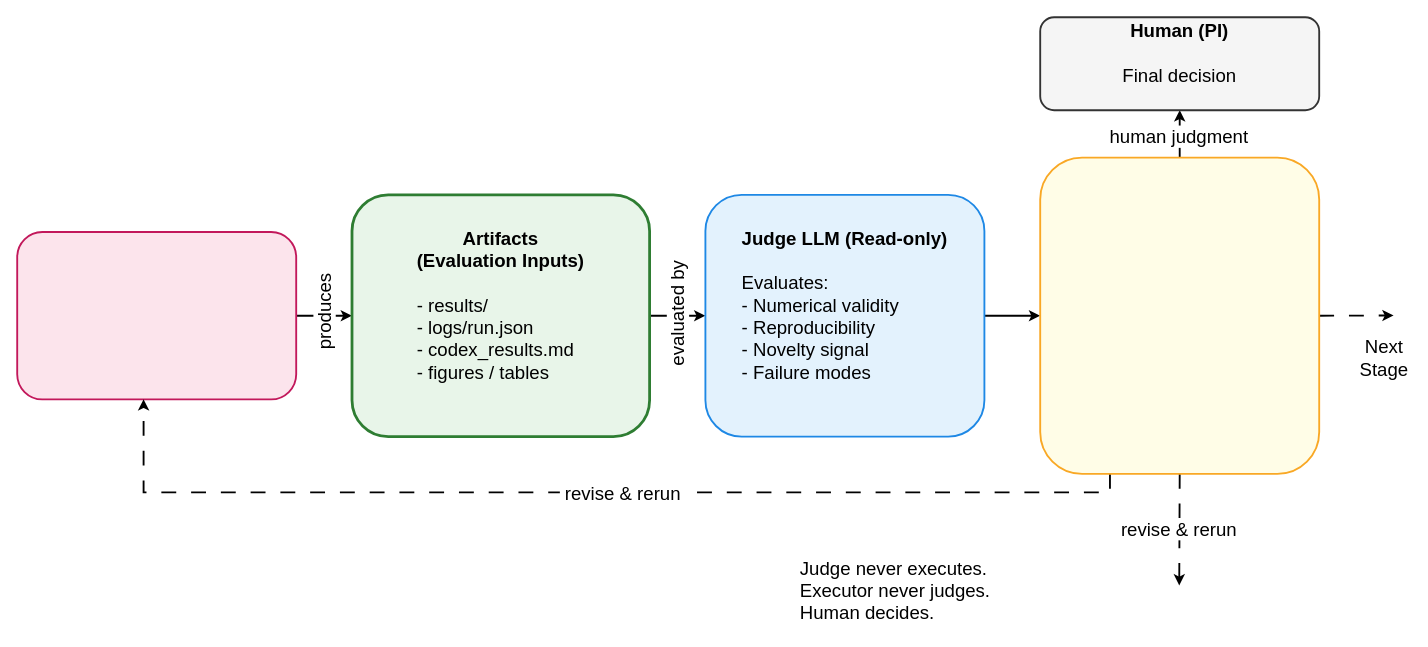
Some shapes in this 1428 by 647 pixel diagram are drawn without their labels. The shapes that lost their labels are listed below. From the top down, each one's box as (x1, y1, x2, y2) in pixels, then its label:
(16, 231, 297, 400): Executor (Codex CLI / LLM) - Implementation - Experiments - State change
(1039, 156, 1320, 474): Decision Gate PASS REVISE REJECT ESCALATE
